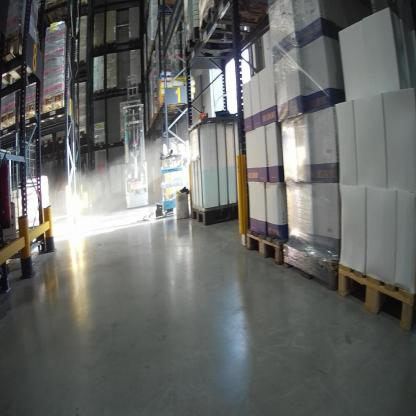pallet: (336, 259, 416, 334), (281, 234, 339, 296), (198, 4, 257, 44), (183, 29, 245, 61), (2, 35, 37, 91), (243, 225, 281, 269), (190, 196, 242, 226), (19, 106, 52, 144), (41, 99, 70, 138), (44, 1, 76, 29), (1, 115, 27, 145), (156, 4, 181, 24), (154, 103, 188, 114), (74, 1, 89, 23), (71, 58, 87, 73), (103, 39, 119, 51), (91, 40, 106, 51), (94, 88, 107, 99), (106, 84, 119, 95), (127, 36, 142, 45), (94, 139, 107, 148)
pallet_truck: (119, 93, 154, 213)
